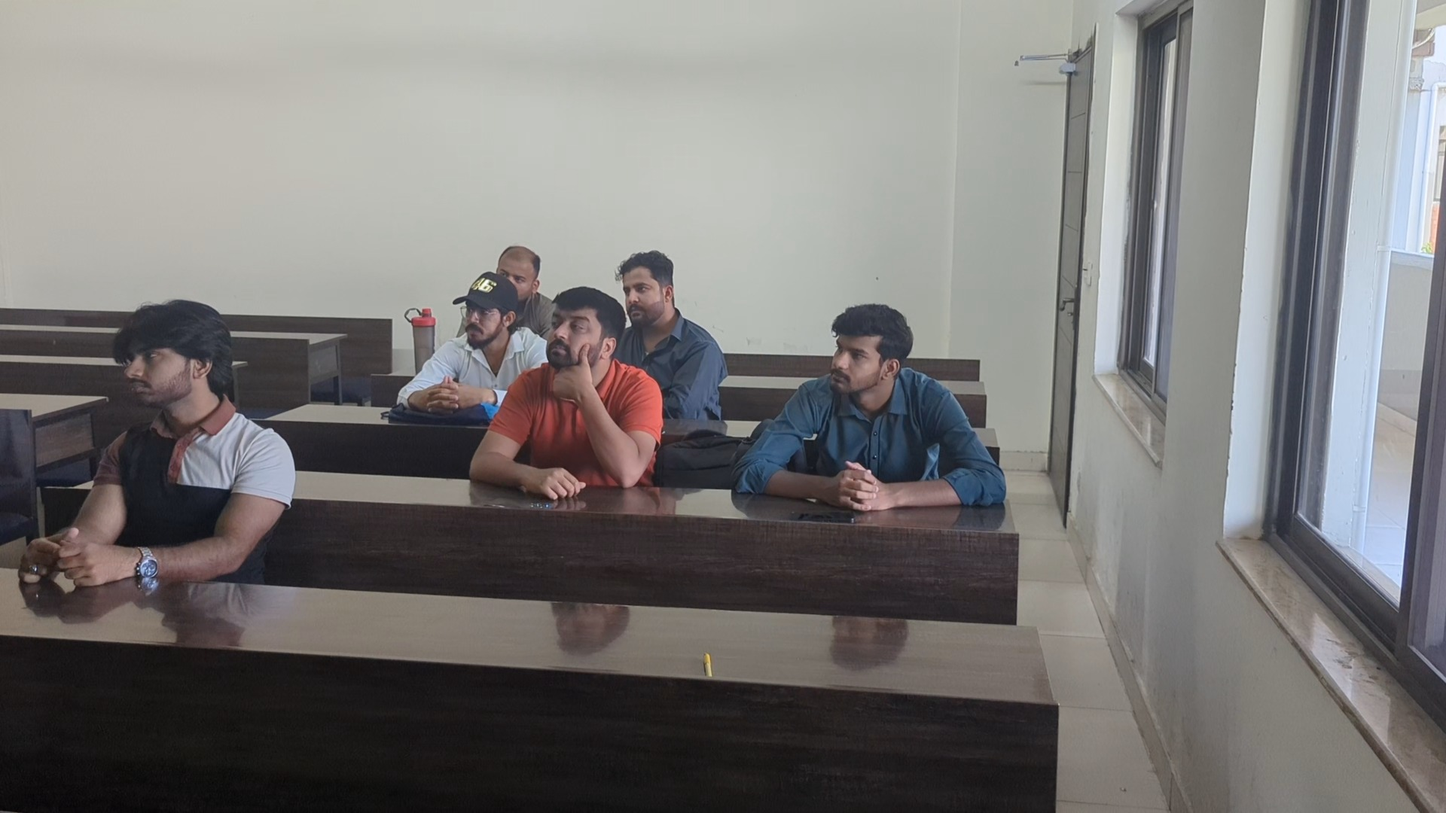look_forward: (87, 295, 303, 563), (785, 295, 938, 484), (521, 299, 641, 446), (605, 221, 701, 379), (428, 281, 513, 393), (497, 236, 554, 316)
